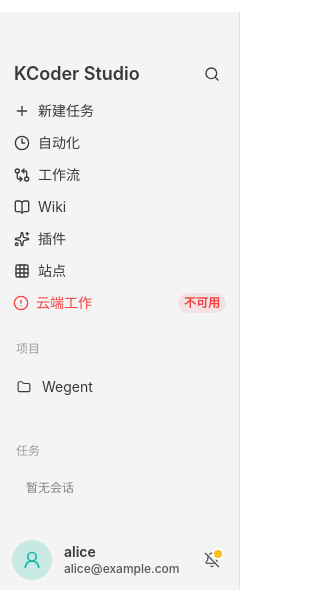
Test case: DesktopSidebar device › closes cloud work error details with Escape
Click the button with test id "sidebar-cloud-error-button": (21, 303) [9, 291, 33, 315]
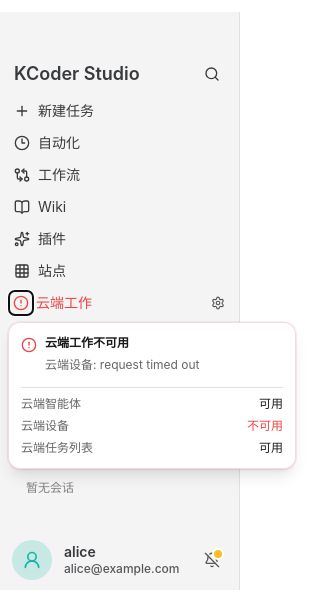
Result: the message "云端工作不可用 云端设备: request timed out 云端智能体 可用 云端设备 不可用 云端任务列表 可用" is shown at [8, 322, 296, 469]
Press Escape
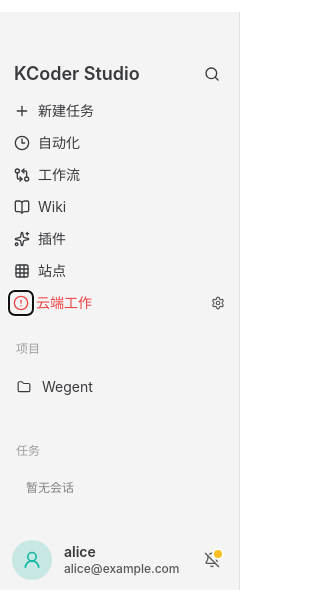
Result: the message with test id "sidebar-cloud-error-popover" is gone
